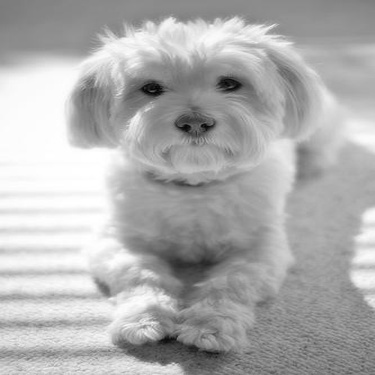dog: (52, 6, 354, 360)
